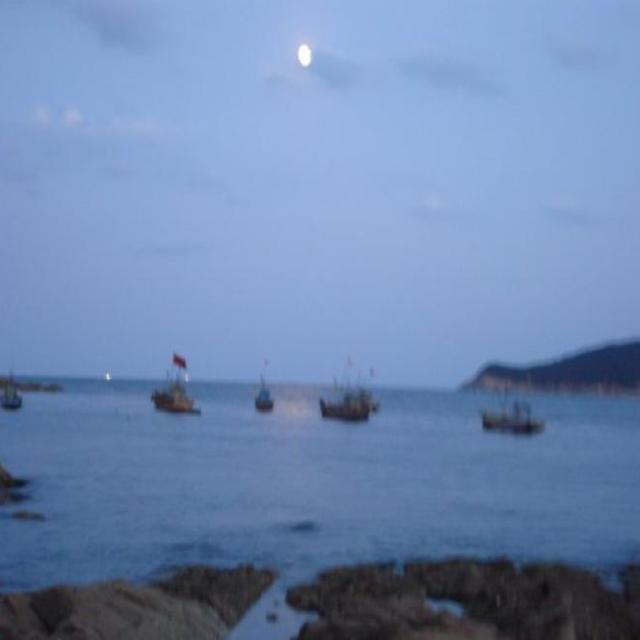fishing boat: (313, 367, 389, 427), (146, 356, 202, 421), (478, 386, 546, 438), (4, 371, 36, 427), (245, 357, 276, 413)
